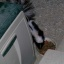skunk: (27, 20, 46, 49)
